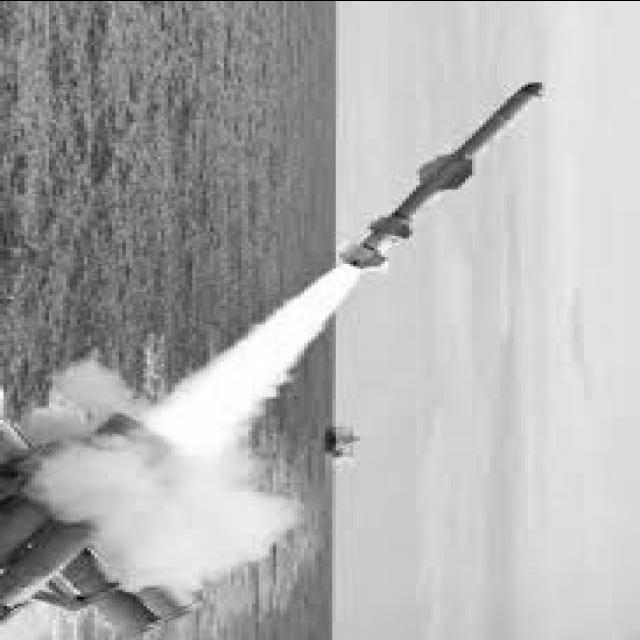missile: (343, 76, 556, 273)
